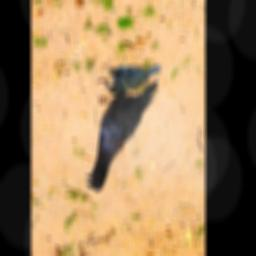Crow: (86, 68, 158, 192)
